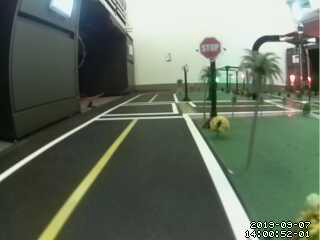Stop_Sign: (194, 33, 231, 67)
